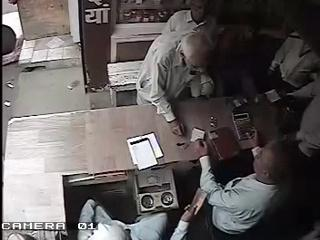Normal: (171, 132, 295, 240), (136, 29, 226, 138)
